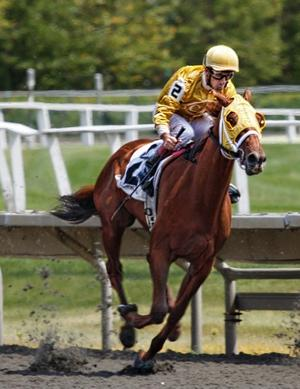person: (138, 42, 241, 208)
